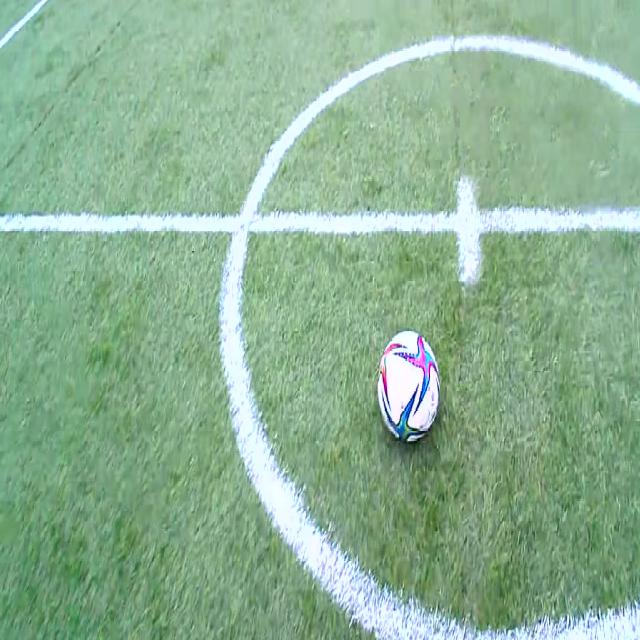ball: (378, 331, 441, 441)
